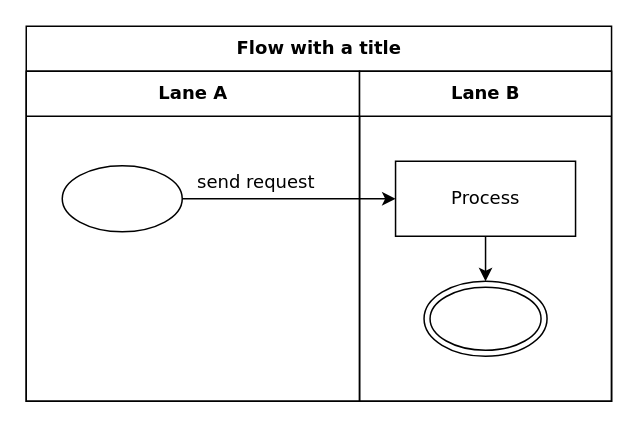
The diagram is 639 pixels wide and 428 high, and some of its shapes have lost their labels. The shapes that lost their labels are listed below. From the top down, each one's centre as x and y in pixels, then its label:
pixel 121 198: Start
pixel 485 318: Done
